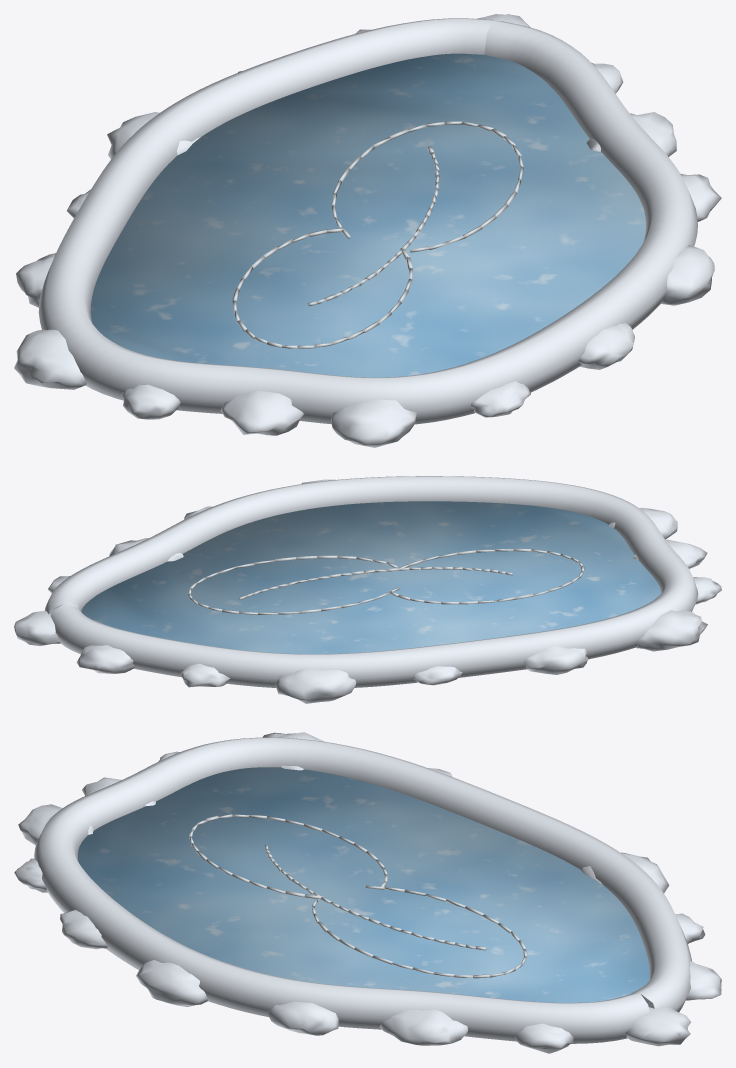
The model's file is ice_rink.glb.
3 renders of one model, top to bottom at view 1: azimuth 30°, elevation 25°; view 2: azimuth 150°, elevation 25°; view 3: azimuth 270°, elevation 25°, orthographic. The views are drawn at different scales.
Visible parts, largest first — view 1: ice, rim; view 2: ice, rim; view 3: ice, rim.
Boxes of the visible parts, bbox=[...] form: ice: bbox=[14, 14, 721, 447]; rim: bbox=[38, 18, 697, 424]; ice: bbox=[14, 479, 721, 703]; rim: bbox=[44, 476, 698, 687]; ice: bbox=[14, 732, 721, 1053]; rim: bbox=[34, 737, 691, 1043].
Size of the model in its own units: 3.34 by 0.2271 by 3.25.
2 materials, 1 textured.
